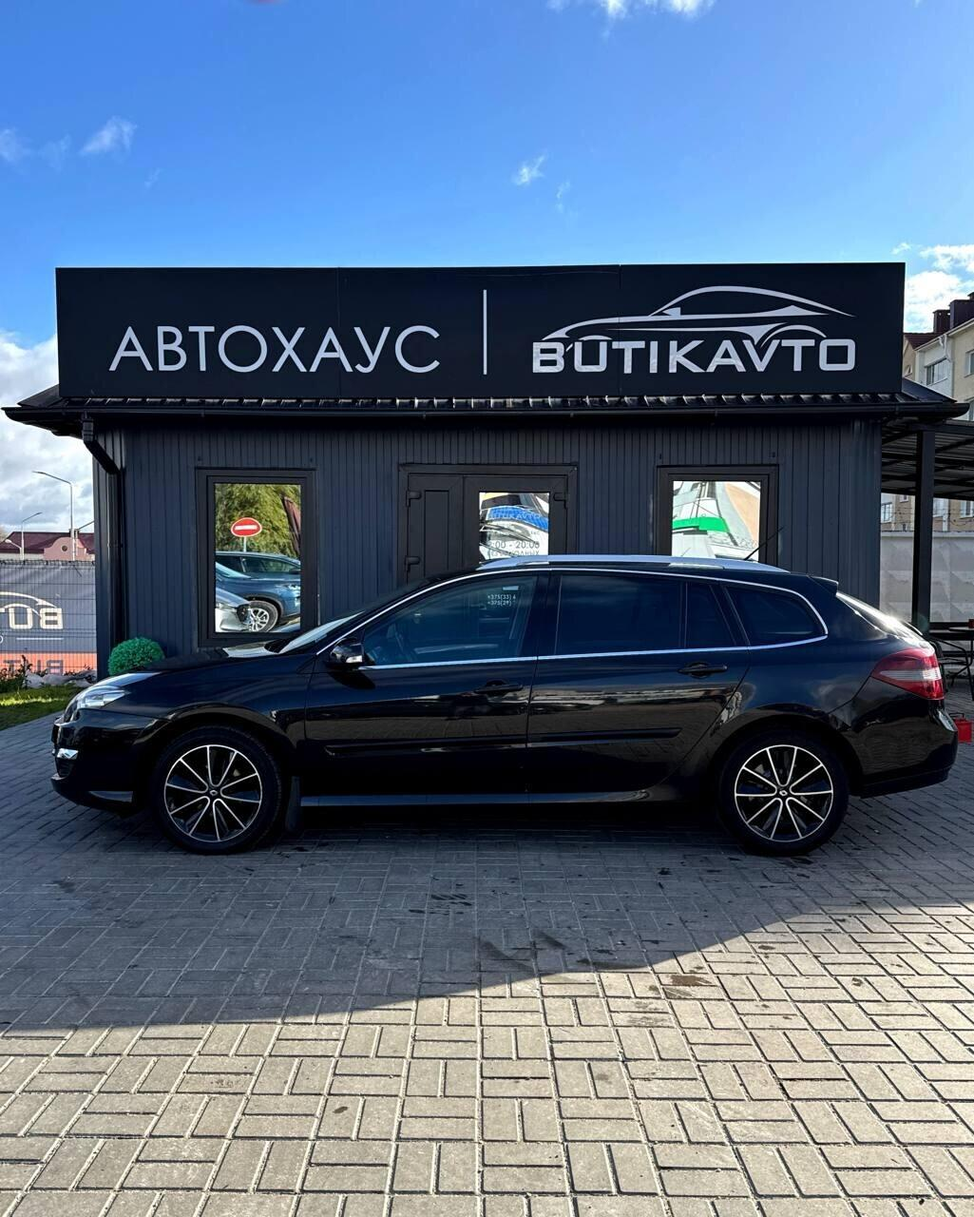Laguna_2010-2015: (43, 547, 971, 870)
